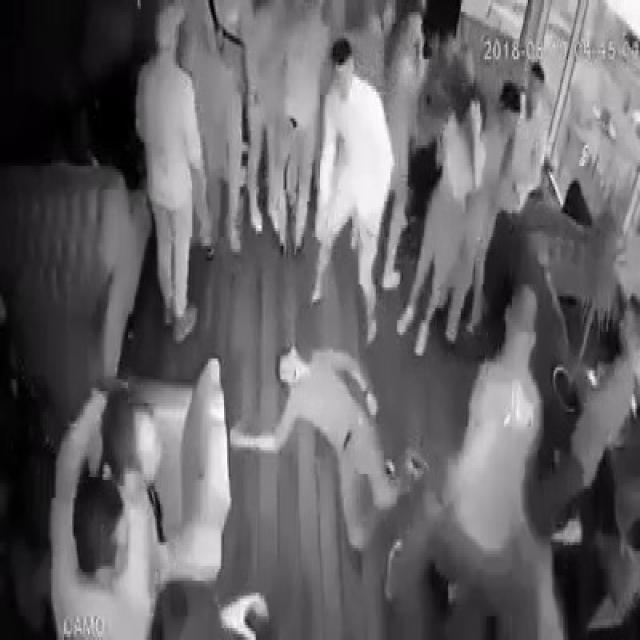fight: (287, 15, 398, 541), (429, 230, 572, 614)
